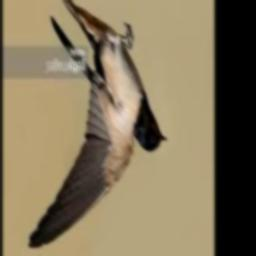Swallow: (28, 0, 168, 249)
